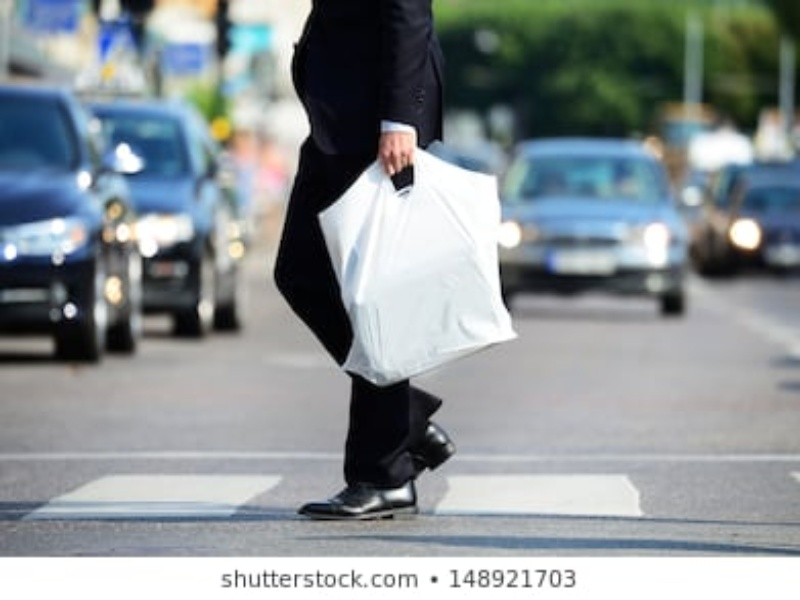plastic-bag: (313, 142, 531, 392)
